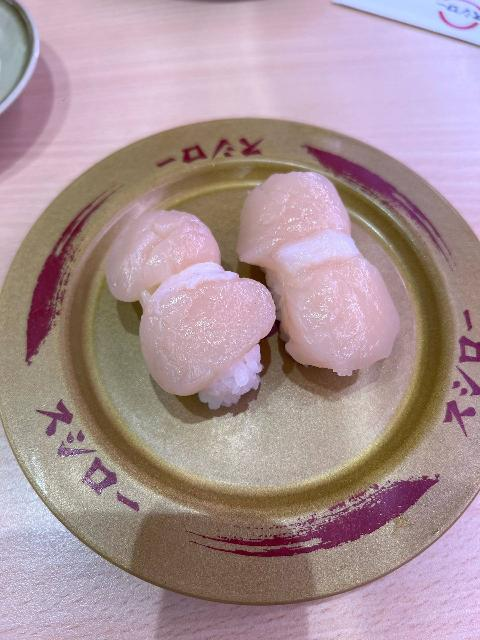jangold: (14, 127, 480, 597)
